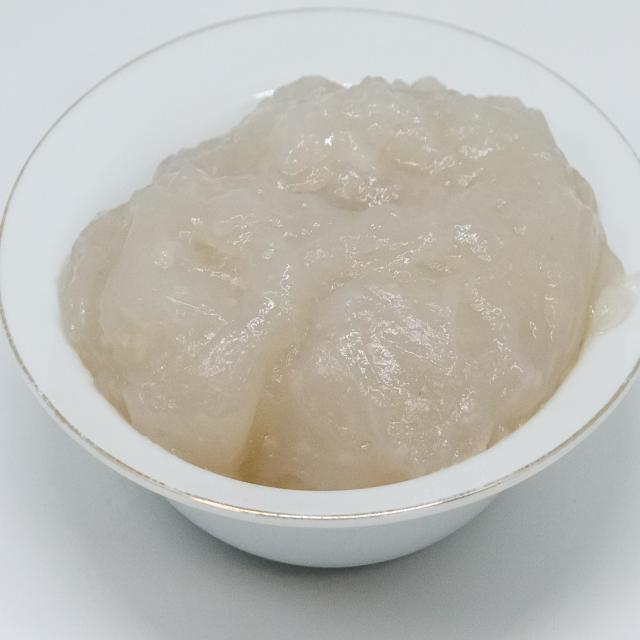Papeda: (44, 47, 627, 506)
